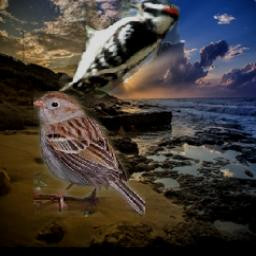Sparrow: (33, 92, 145, 218)
Woodpecker: (59, 0, 180, 98)
